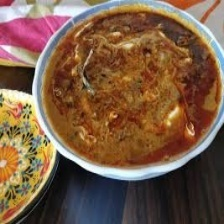sabzi: (41, 6, 221, 170)
